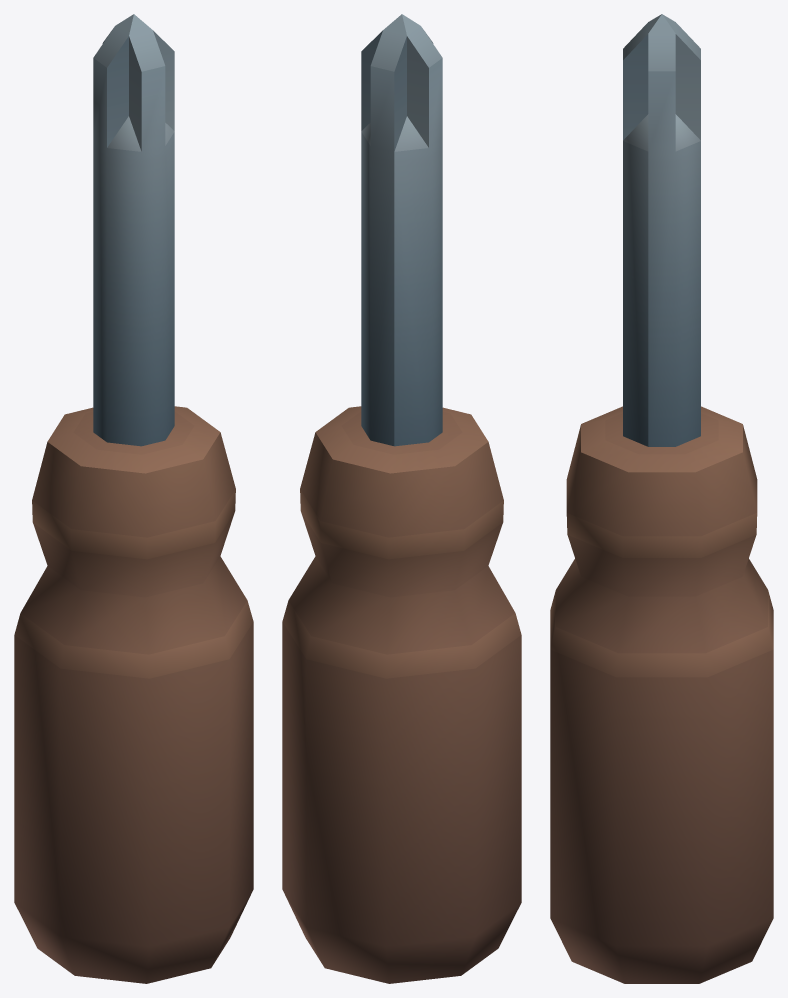
The model's file is screwdriver_B_short.fbx.
The picture shows the model from 3 angles, left to right: view 1: azimuth 30°, elevation 25°; view 2: azimuth 150°, elevation 25°; view 3: azimuth 270°, elevation 25°; orthographic projection.
Visible parts, largest first — view 1: screwdriver_B_short; view 2: screwdriver_B_short; view 3: screwdriver_B_short.
Part boxes in pixels (x1,y1,x2,y2): screwdriver_B_short: (14,14,253,983); screwdriver_B_short: (282,14,521,983); screwdriver_B_short: (550,14,773,983).
Bounding box in the file's own units: 0.1513 × 0.7136 × 0.1513.
